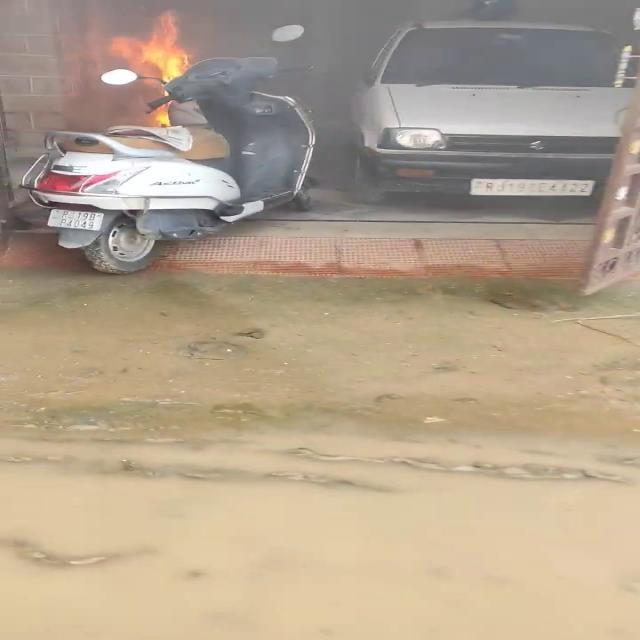Fire: (116, 12, 198, 126)
